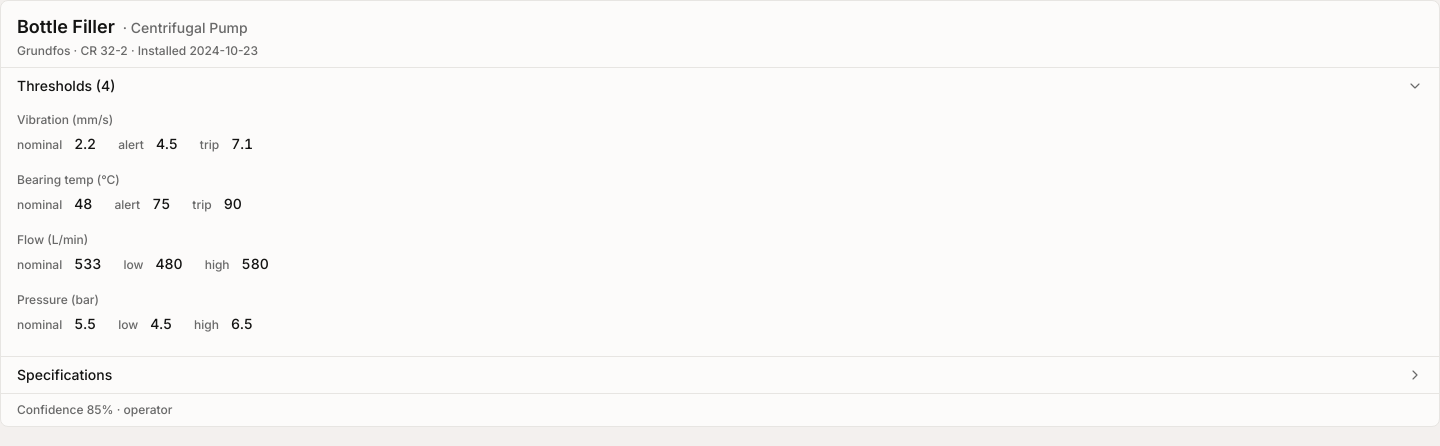
Test: EquipmentKbCard › commits edit on Enter → optimistic update + PUT body contains the new threshold
Click the button with test id "threshold-value-thresholds.vibration_mm_s.alert": (167, 144) 150,132 -> 184,156
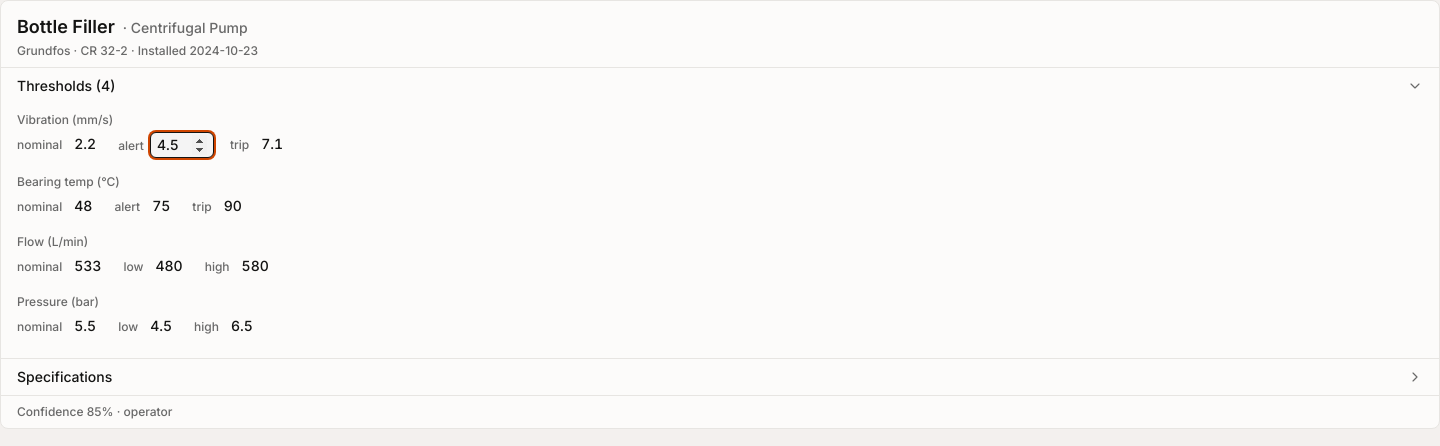
Replace the text in the number field named "Vibration (mm/s) alert" with "5.2": (182, 145) 150,132 -> 214,158
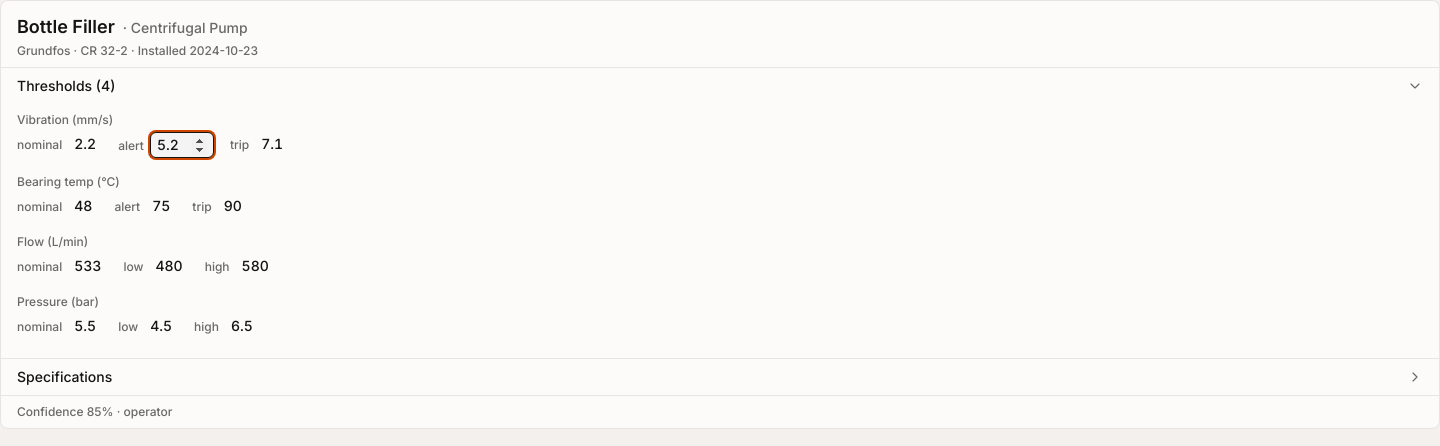
Press Enter
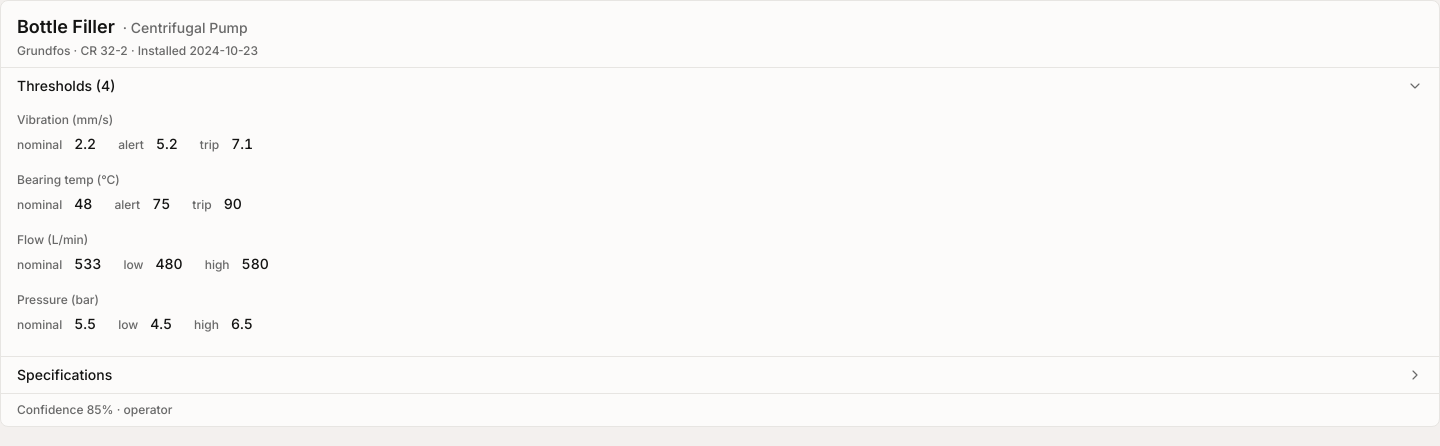
Now the button with test id "threshold-value-thresholds.vibration_mm_s.alert" reads "5.2", box 150,132 -> 184,156
